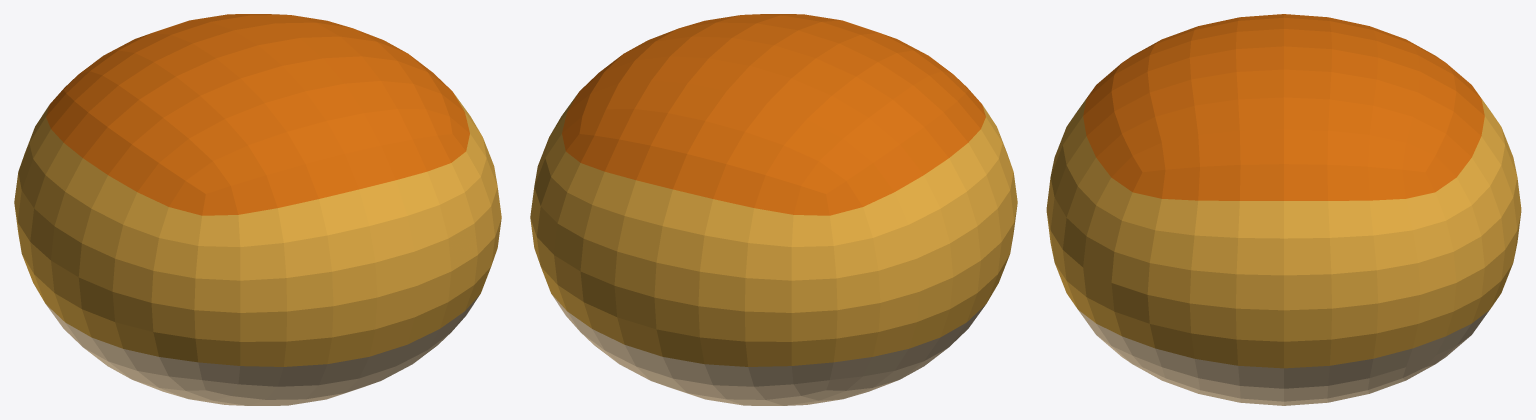
File: snake_body (2).fbx
The picture shows the model from 3 angles, left to right: view 1: azimuth 30°, elevation 25°; view 2: azimuth 150°, elevation 25°; view 3: azimuth 270°, elevation 25°; orthographic projection.
Parts seen in each view (by area): view 1: Cube.002; view 2: Cube.002; view 3: Cube.002.
Part boxes in pixels (x1,y1,x2,y2): Cube.002: [14, 14, 501, 405]; Cube.002: [530, 14, 1017, 405]; Cube.002: [1046, 14, 1521, 405].
Bounding box in the file's own units: 168 × 128 × 168.
